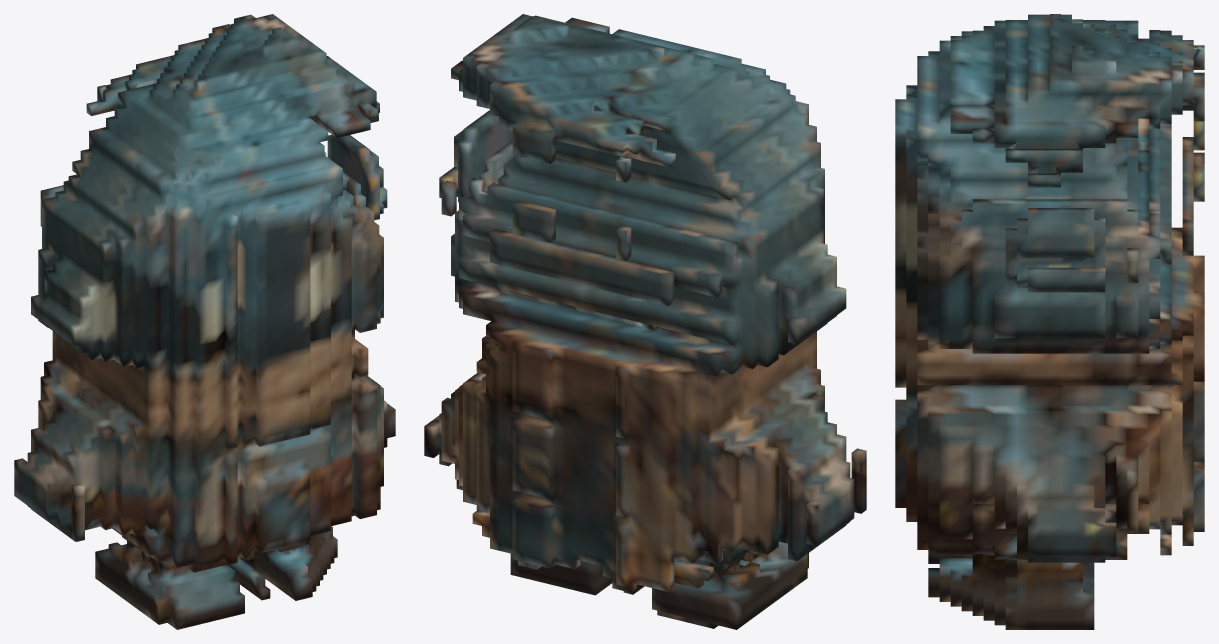
The model's file is sheet1_L10.glb.
The picture shows the model from 3 angles, left to right: view 1: azimuth 30°, elevation 25°; view 2: azimuth 150°, elevation 25°; view 3: azimuth 270°, elevation 25°; orthographic projection. The views are drawn at different scales.
Parts seen in each view (by area): view 1: BPT_sheet1_L10; view 2: BPT_sheet1_L10; view 3: BPT_sheet1_L10.
Boxes of the visible parts, <box> form: BPT_sheet1_L10: <box>14,14,395,629</box>; BPT_sheet1_L10: <box>424,14,866,629</box>; BPT_sheet1_L10: <box>895,14,1204,629</box>.
Size of the model in its own units: 1.44 by 2 by 0.9825.
